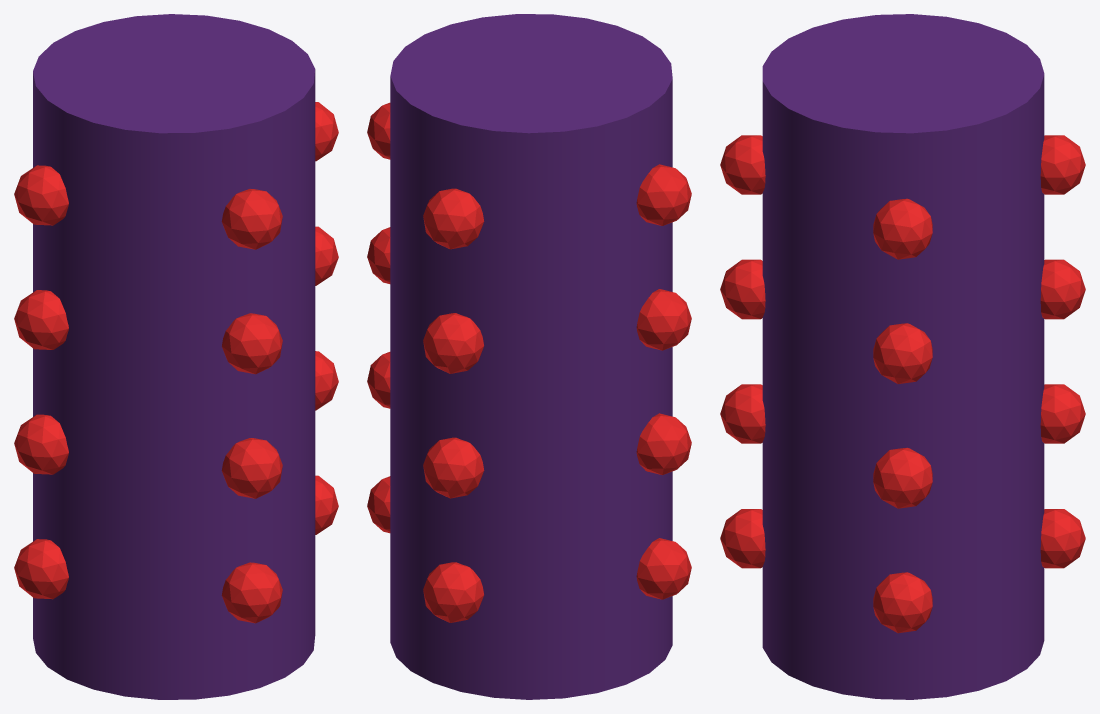
The model's file is CylinderTrap.fbx.
3 renders of one model, left to right at view 1: azimuth 30°, elevation 25°; view 2: azimuth 150°, elevation 25°; view 3: azimuth 270°, elevation 25°, orthographic.
Parts seen in each view (by area): view 1: Circle, Icosphere.001; view 2: Circle, Icosphere.001; view 3: Circle, Icosphere.001.
Part boxes in pixels (x1=…): Circle: x1=33, y1=14, x2=315, y2=699; Icosphere.001: x1=14, y1=102, x2=338, y2=623; Circle: x1=390, y1=14, x2=672, y2=699; Icosphere.001: x1=367, y1=102, x2=691, y2=622; Circle: x1=762, y1=14, x2=1044, y2=699; Icosphere.001: x1=720, y1=135, x2=1085, y2=633.
Size of the model in its own units: 259 by 442 by 259.
